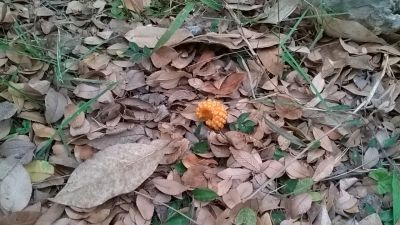eggs: (196, 98, 229, 130)
